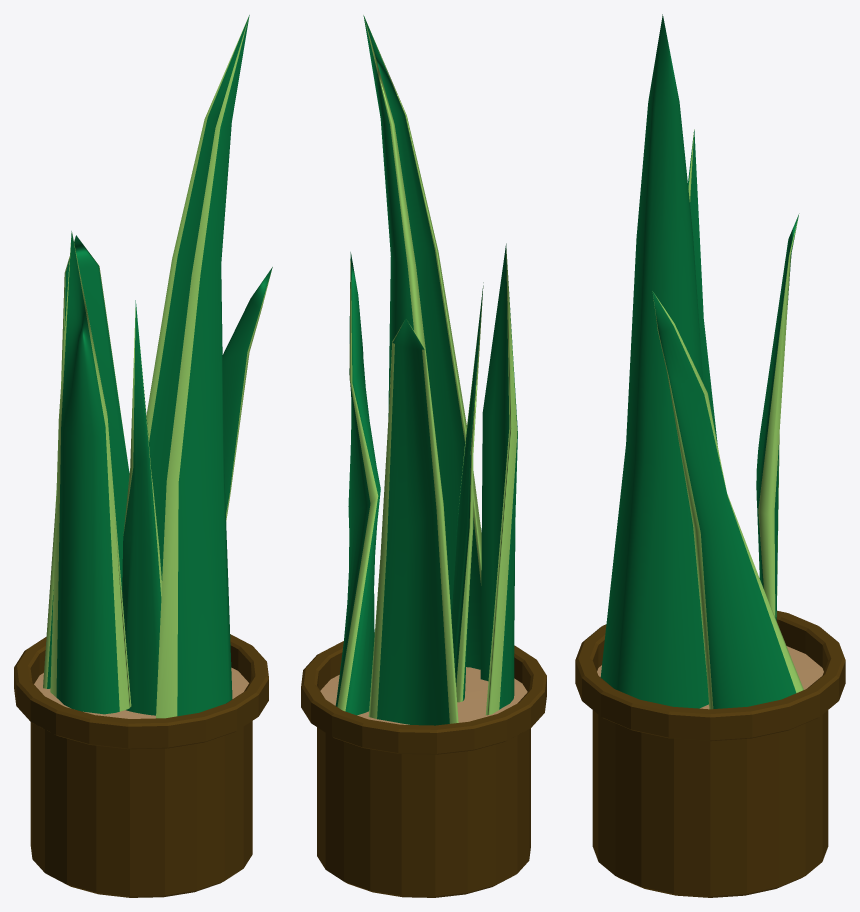
The model's file is syokubutu A.fbx.
The picture shows the model from 3 angles, left to right: view 1: azimuth 30°, elevation 25°; view 2: azimuth 150°, elevation 25°; view 3: azimuth 270°, elevation 25°; orthographic projection. The views are drawn at different scales.
Parts seen in each view (by area): view 1: hati, pCone5, pCone4, pCone3, pCone2, pCone1; view 2: hati, pCone2, pCone5, pCone4, pCone1, pCone3; view 3: hati, pCone5, pCone1, pCone2, pCone4.
Part boxes in pixels (x1,y1,x2,y2): hati: (14,634,268,897); pCone5: (122,15,249,718); pCone4: (50,231,131,714); pCone3: (122,300,161,715); pCone2: (43,235,129,688); pCone1: (222,267,272,520); hati: (301,632,546,897); pCone2: (368,319,458,725); pCone5: (363,15,481,669); pCone4: (480,243,517,715); pCone1: (335,252,380,715); pCone3: (451,282,483,702); hati: (575,610,845,897); pCone5: (600,14,708,708); pCone1: (652,291,803,709); pCone2: (756,213,799,620); pCone4: (688,129,717,444).
Bounding box in the file's own units: 2.3 × 8.25 × 2.3.
